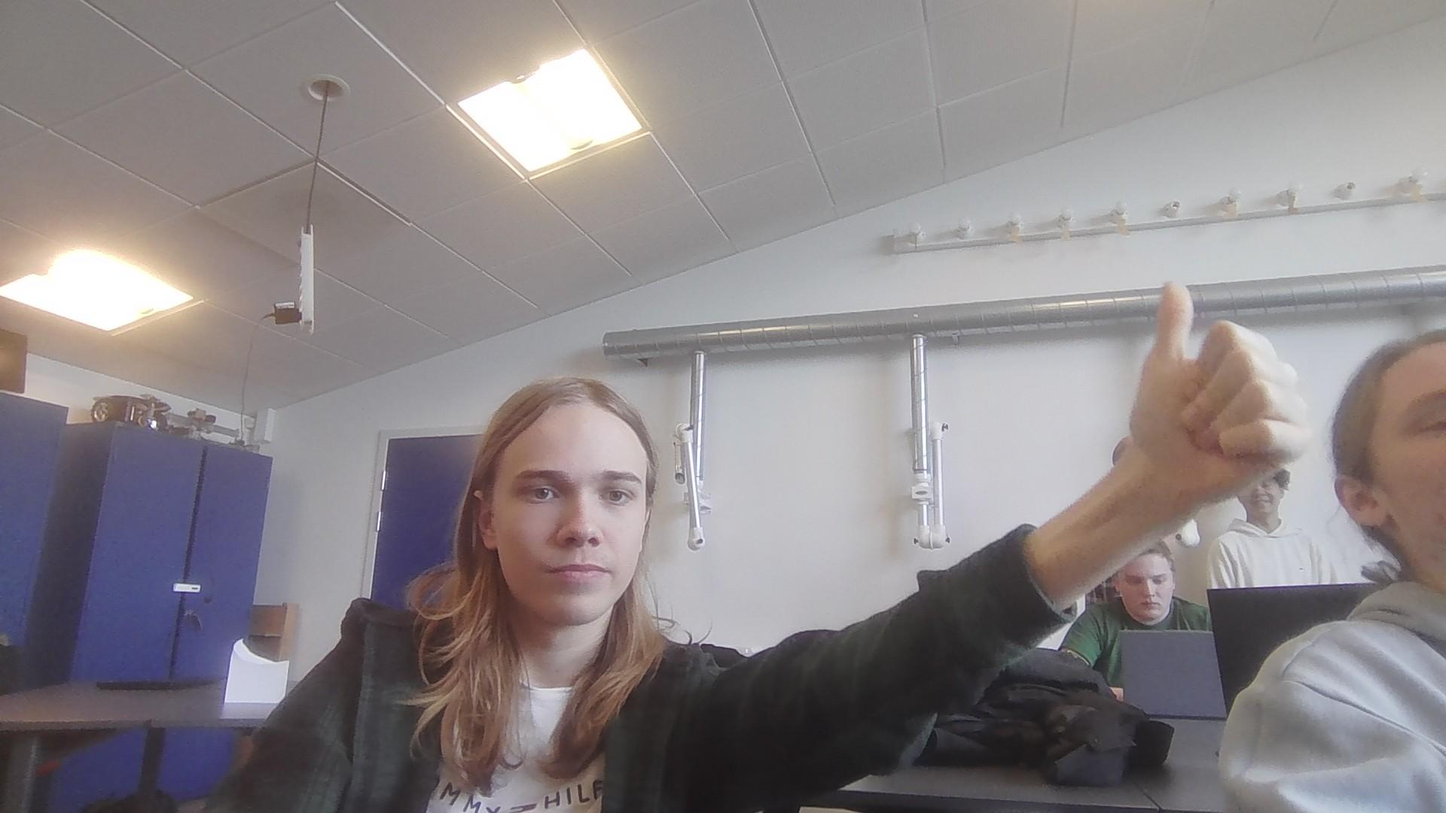thumbs up: (1133, 277, 1309, 500)
